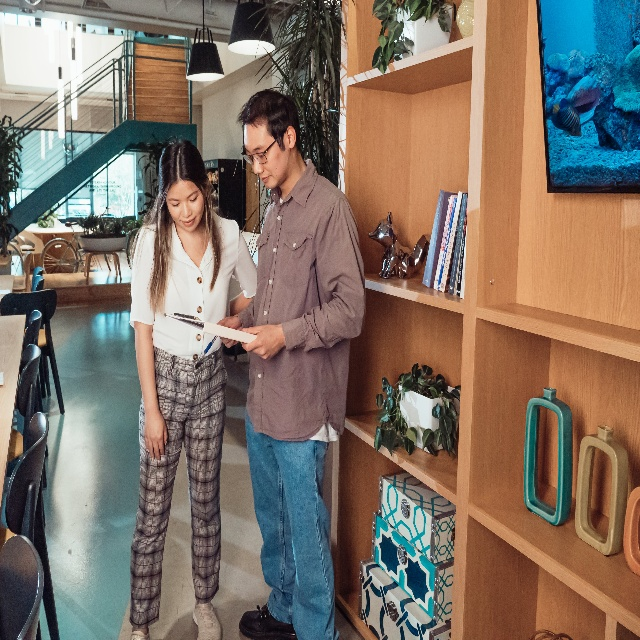Gafas: (241, 135, 281, 165)
Sin_guantes: (240, 324, 285, 361), (144, 410, 168, 464), (215, 315, 242, 348)
